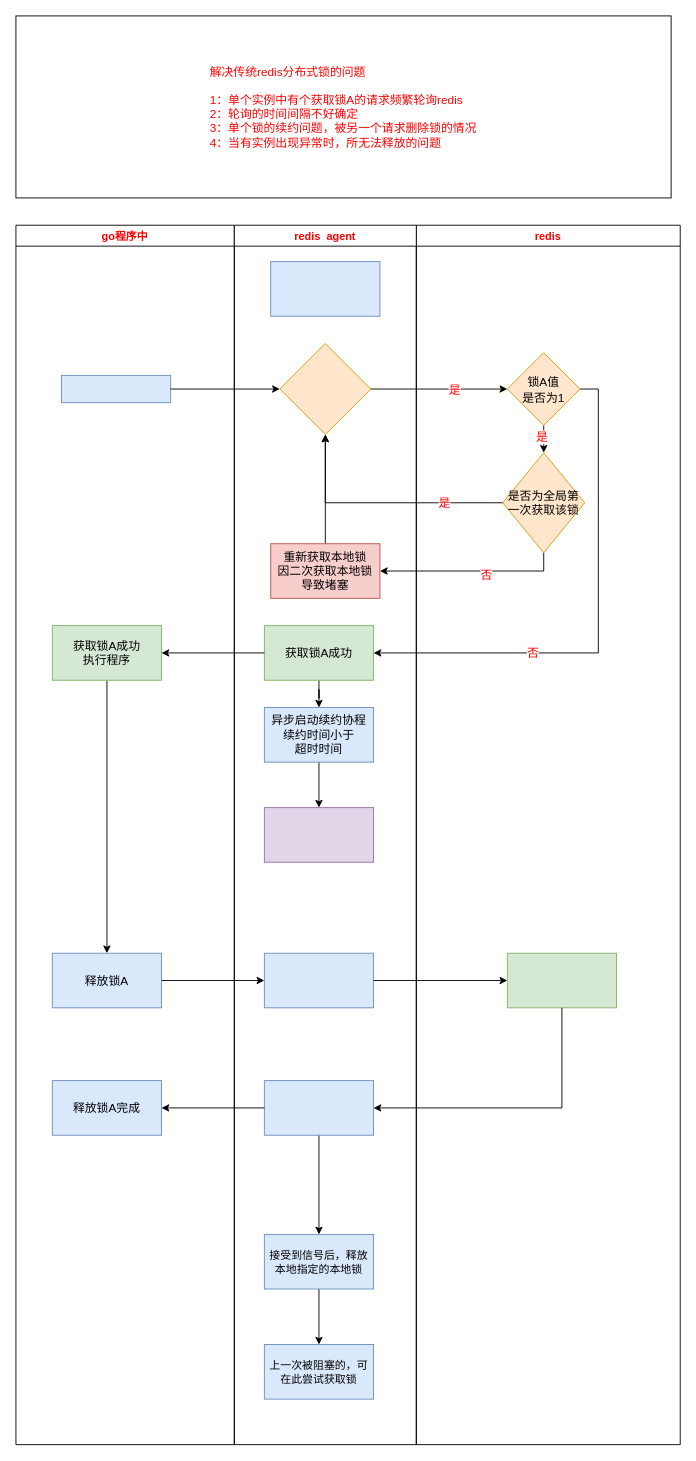
Some shapes in this 696 by 1461 pixel diagram are drawn without their labels. The centre of each missing label's shape, as x and y in pixels:
"关闭续约协程" goes at point 318,980.
"将锁A对应的值 修改为0 通过锁A的订阅通道发布可获取锁的信息" goes at point 561,980.
"当程序下线或者异常时没有正常续约，该锁A会自动释放" goes at point 318,834.
"是否成功 获取本地锁" goes at point 325,389.
"获取添加锁A" goes at point 116,388.
"订阅全局锁 管理管道" goes at point 325,288.
"通过全局锁管理通道发布获取锁的唤醒信号" goes at point 318,1107.
